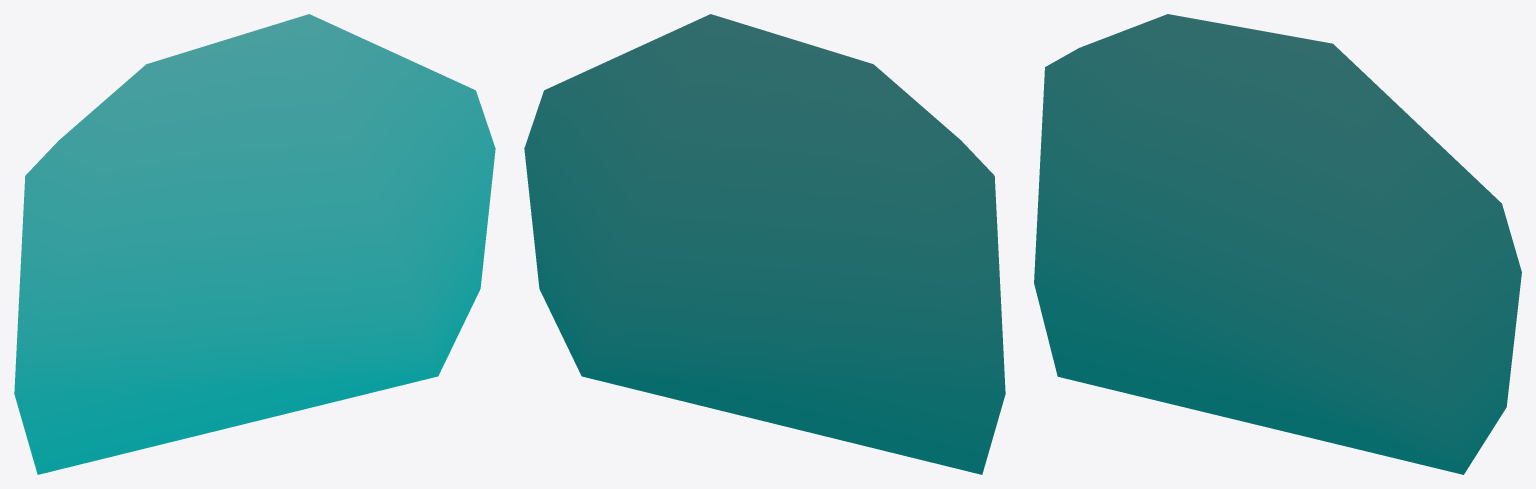
The model's file is Nordic_Coastal_Groundcover_vlqkdeaja_Mid_vlqkdeaja_VarP_LOD4.fbx.
3 renders of one model, left to right at view 1: azimuth 30°, elevation 25°; view 2: azimuth 150°, elevation 25°; view 3: azimuth 330°, elevation 25°, orthographic.
Parts seen in each view (by area): view 1: _hi1q_VarP_LOD6; view 2: _hi1q_VarP_LOD6; view 3: _hi1q_VarP_LOD6.
Part boxes in pixels (box(x1,y1,x2,y2)): _hi1q_VarP_LOD6: box(14, 14, 495, 474); _hi1q_VarP_LOD6: box(524, 14, 1005, 474); _hi1q_VarP_LOD6: box(1034, 14, 1521, 474).
Bounding box in the file's own units: 98.18 × 76.95 × 0.
